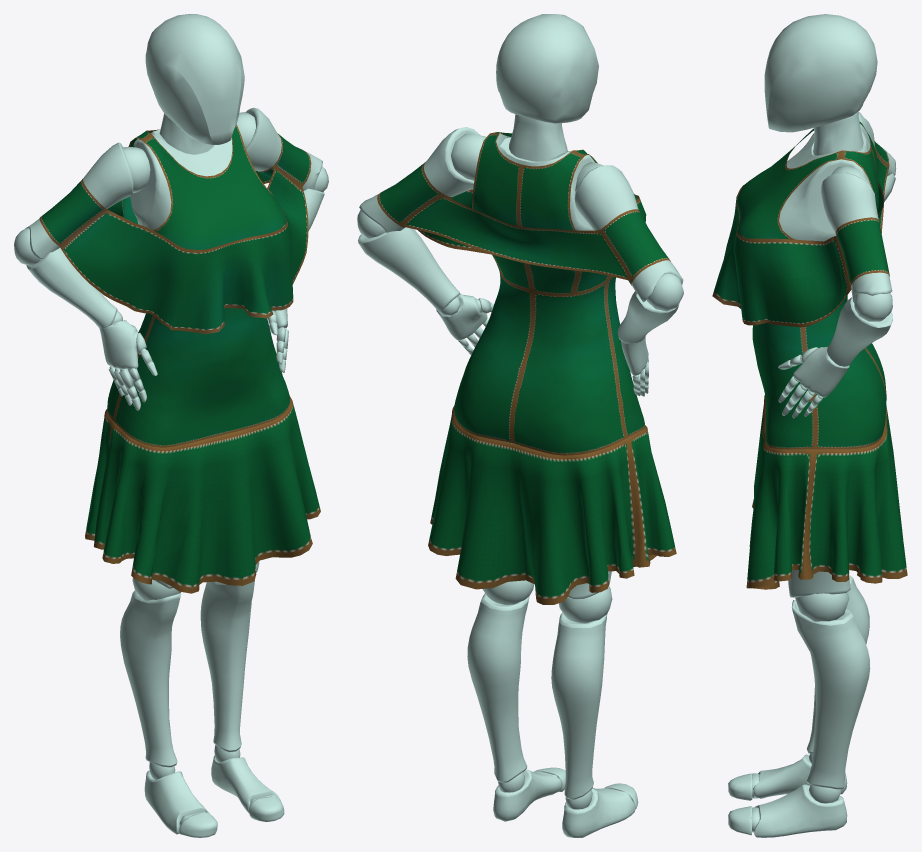
Rendered from inter_elem2.glb.
3 views of the same model, side by side, from view 1: azimuth 30°, elevation 25°; view 2: azimuth 150°, elevation 25°; view 3: azimuth 270°, elevation 25° (orthographic). The views are drawn at different scales.
Visible parts, largest first — view 1: Dummy, D3, D2, D1; view 2: Dummy, D2, D3, D1; view 3: Dummy, D3, D2, D1.
Part boxes in pixels (<box>): Dummy: <box>14,14,328,837</box>; D3: <box>85,396,320,593</box>; D2: <box>107,125,290,447</box>; D1: <box>39,133,311,334</box>; Dummy: <box>357,14,683,837</box>; D2: <box>454,132,645,455</box>; D3: <box>428,406,676,604</box>; D1: <box>377,162,670,285</box>; Dummy: <box>728,14,896,837</box>; D3: <box>746,395,907,589</box>; D2: <box>737,121,886,449</box>; D1: <box>712,141,889,327</box>.
Bounding box in the file's own units: 0.7262 × 1.75 × 0.3903.
Materials: 2 (1 with a texture image).
